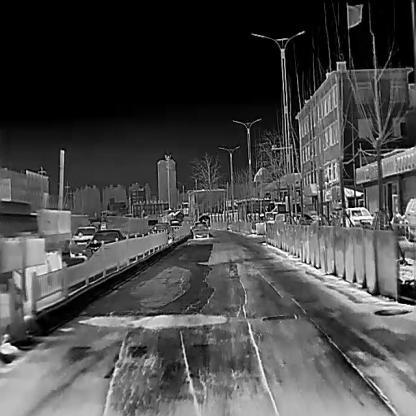car: (85, 229, 126, 261), (69, 225, 98, 257), (399, 194, 415, 243), (339, 206, 374, 227), (274, 212, 316, 224), (150, 222, 172, 240), (192, 221, 209, 238), (170, 220, 180, 228)
truck: (0, 167, 47, 319)
